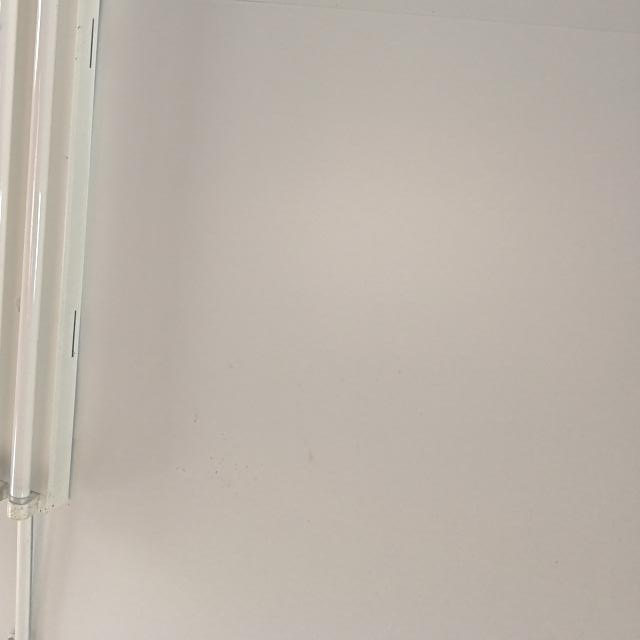fluorescent tube: (0, 0, 161, 534)
